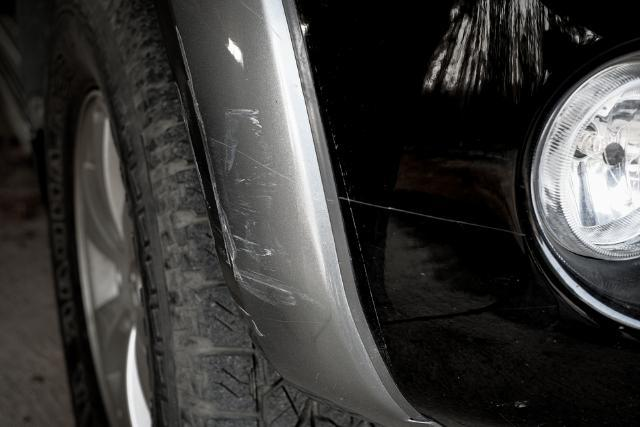Bumper: (173, 0, 611, 427)
